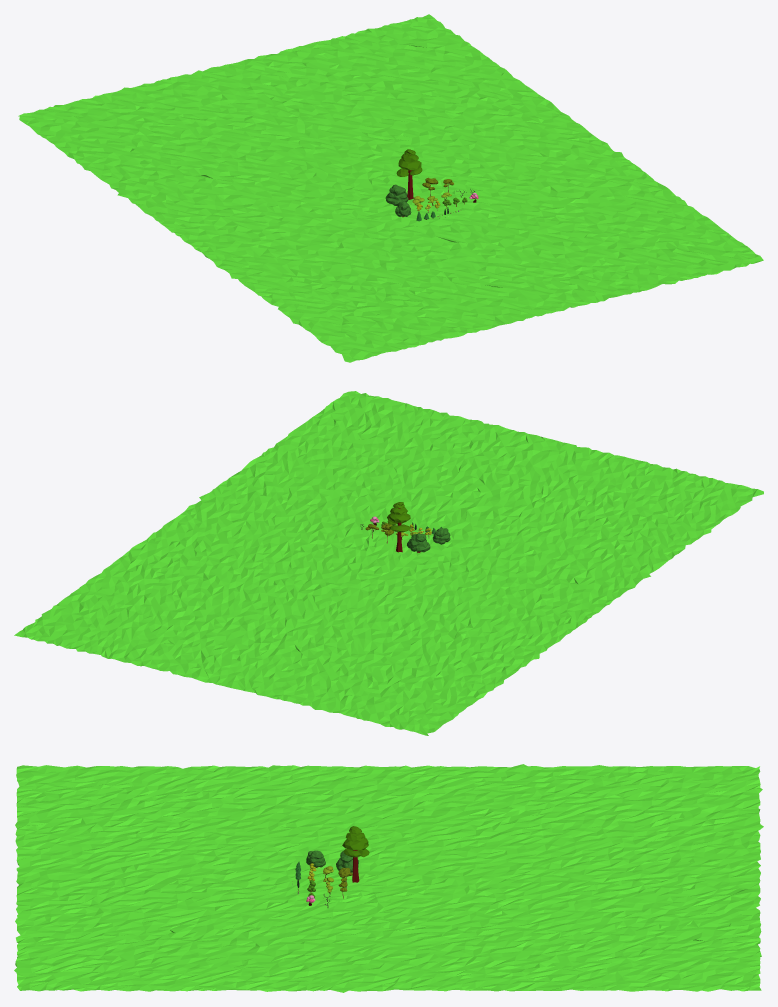
3 views of the same model, one above another, from view 1: azimuth 30°, elevation 25°; view 2: azimuth 150°, elevation 25°; view 3: azimuth 270°, elevation 25° (orthographic). The views are drawn at different scales.
Parts seen in each view (by area): view 1: overview_ground, Icosphere.008; view 2: overview_ground, Icosphere.008; view 3: overview_ground, Icosphere.008.
Part boxes in pixels (x1=…): overview_ground: x1=18, y1=14, x2=763, y2=362; Icosphere.008: x1=396, y1=149, x2=422, y2=199; overview_ground: x1=14, y1=391, x2=763, y2=735; Icosphere.008: x1=387, y1=502, x2=410, y2=552; overview_ground: x1=14, y1=764, x2=763, y2=992; Icosphere.008: x1=342, y1=826, x2=369, y2=882.
Size of the model in its own units: 403 by 45.7 by 559.
